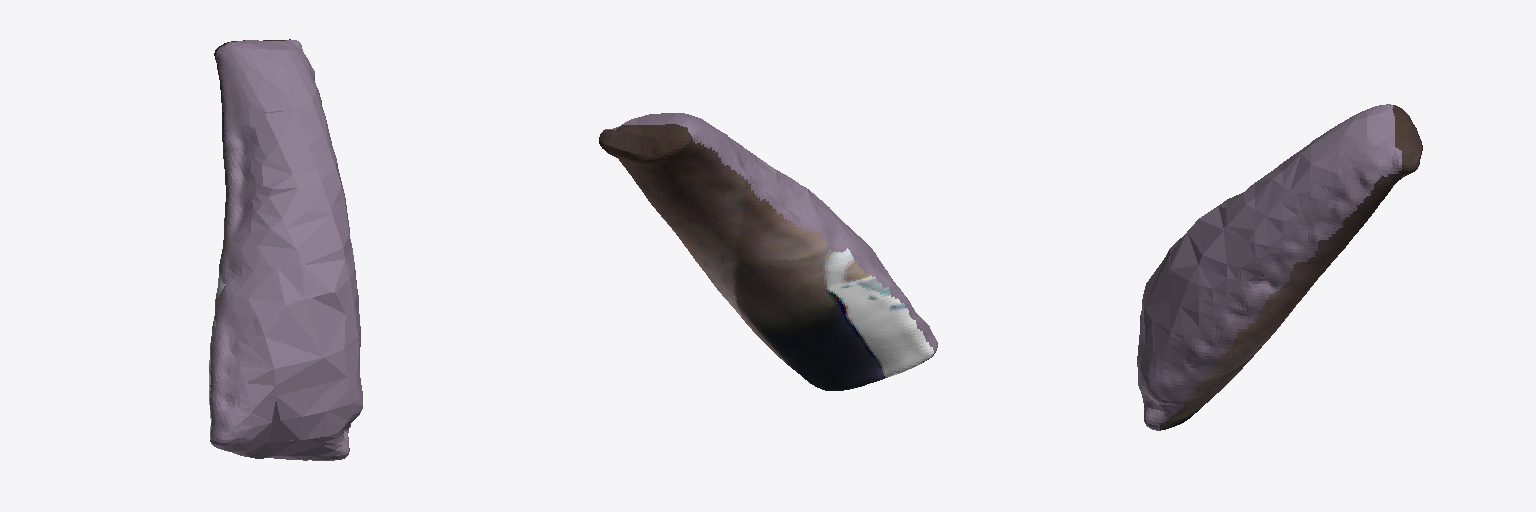
3 views of the same model, side by side, from view 1: azimuth 30°, elevation 25°; view 2: azimuth 150°, elevation 25°; view 3: azimuth 270°, elevation 25° (orthographic).
Size of the model in its own units: 0.1491 by 0.2229 by 0.1743.
2 materials, 2 textured.